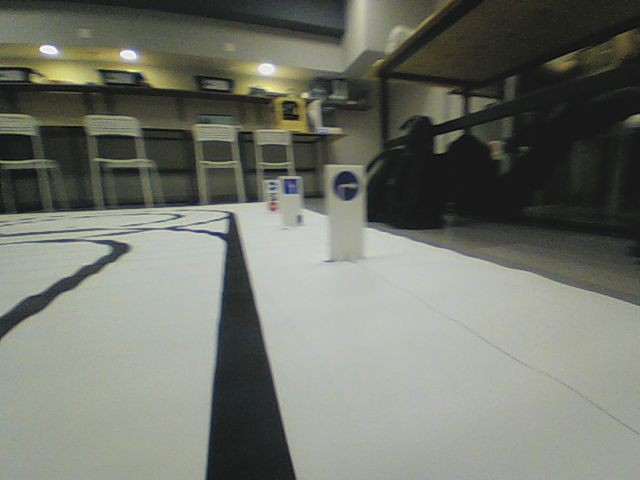Right: (332, 170, 360, 203)
